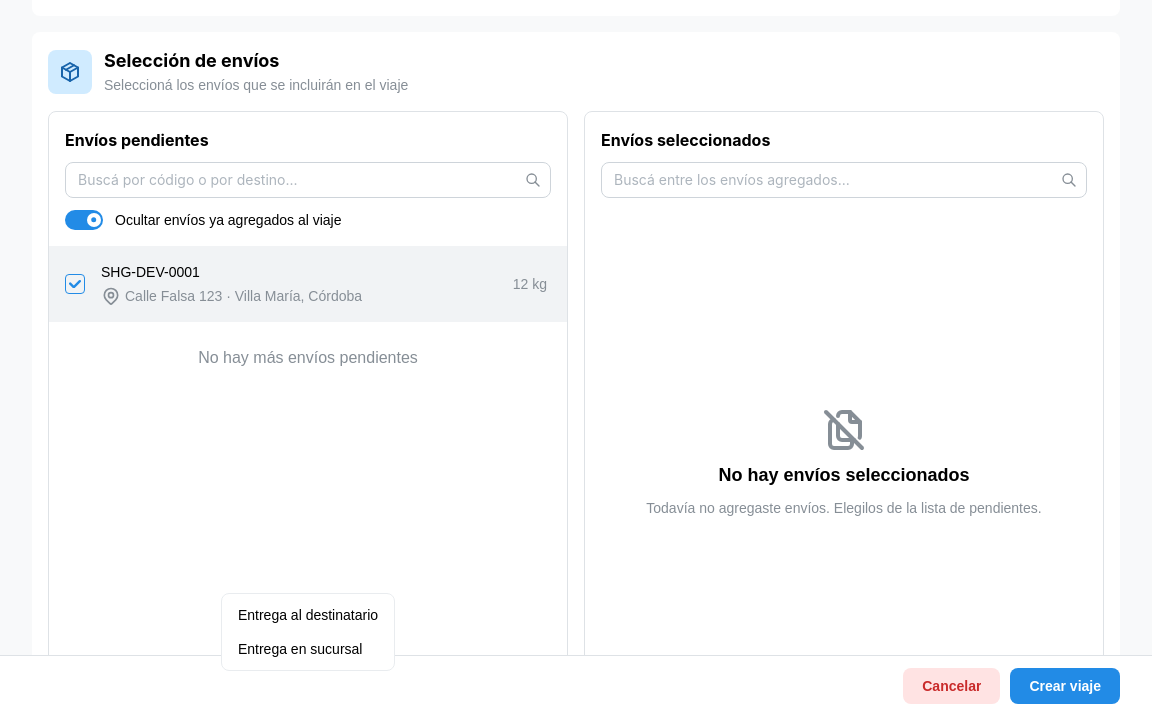
Test: CrearViaje › mueve un envío seleccionado a 'Envíos seleccionados' al elegir entrega al destinatario
The width and height of the screenshot is (1152, 715).
Earlier steps of the test are not shown.
(page scrolled)
Click the menu item "Entrega al destinatario" at [308, 615], box [226,598,390,632]
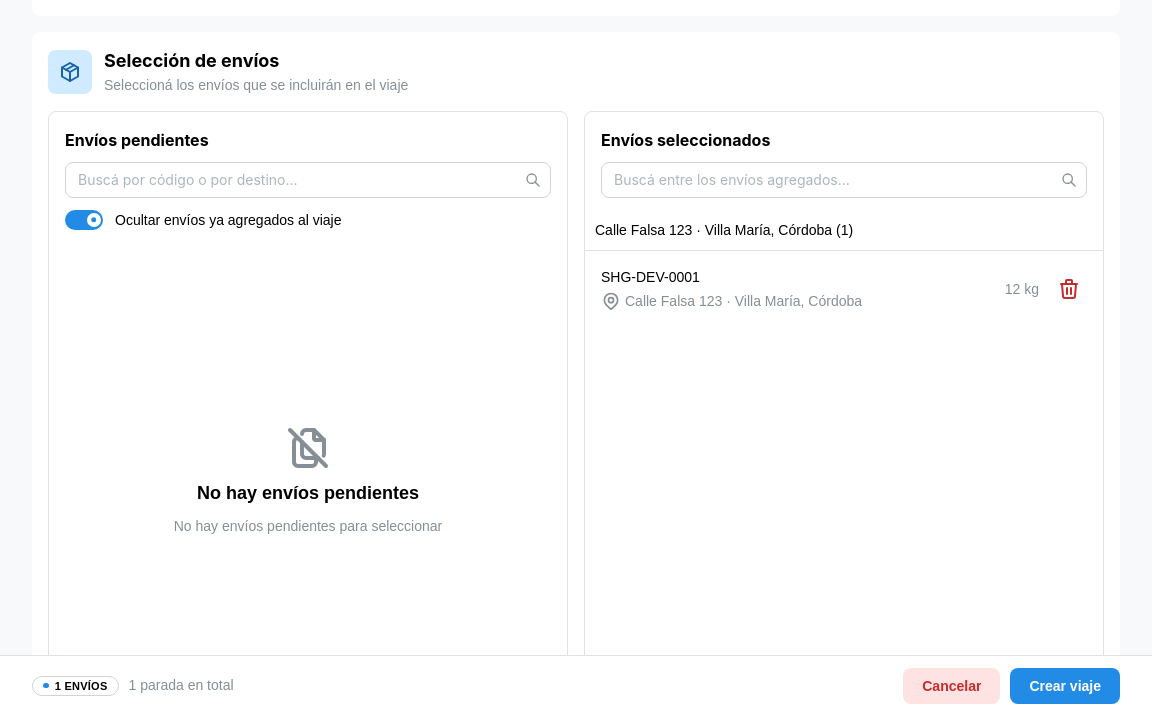
Result: the text "No hay envíos seleccionados" is gone
Result: the text "SHG-DEV-0001" is shown once at [601,267,700,287]
